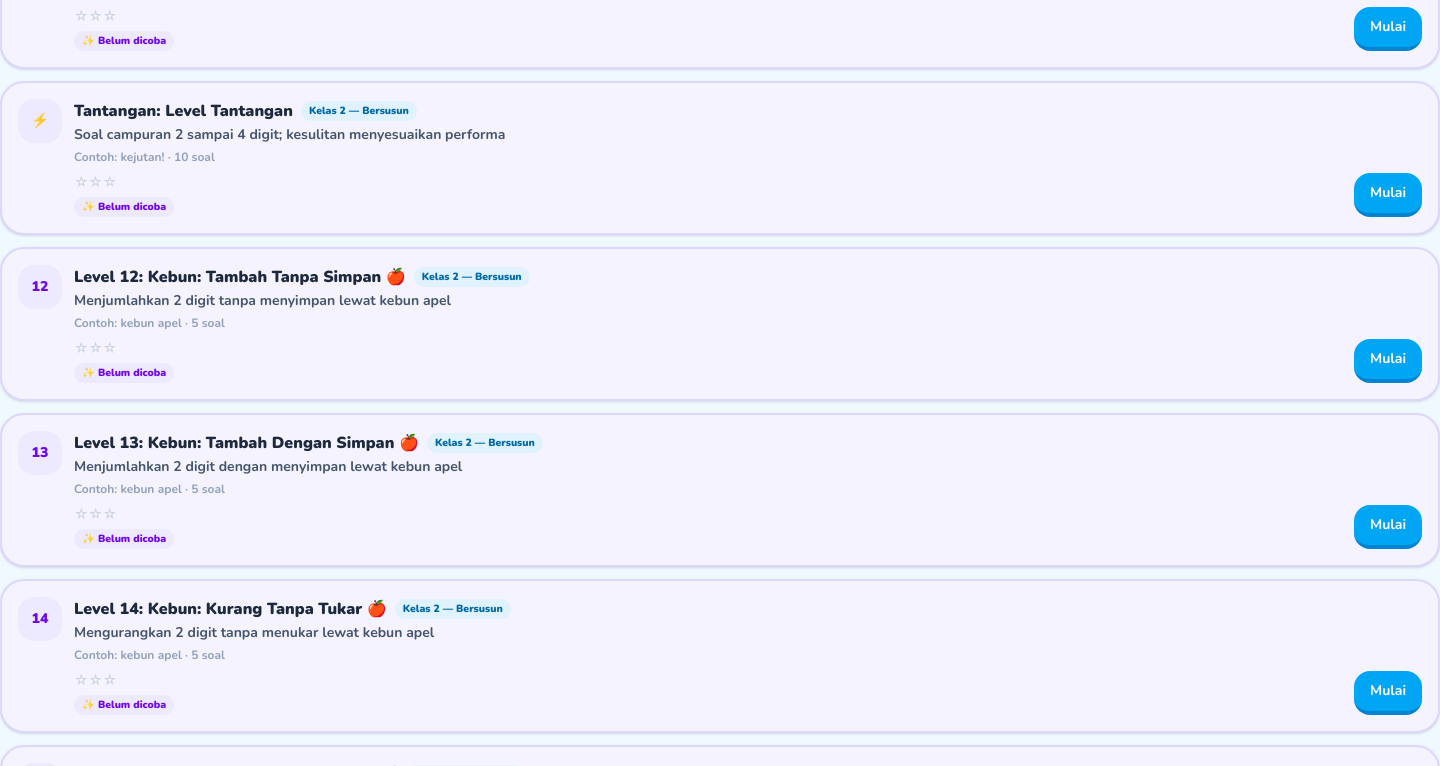
Test: LevelSelectScreen › menavigasi ke screen yang tepat untuk kebun dan akuarium
The width and height of the screenshot is (1440, 766).
Later steps or results of the test are not shown.
(page scrolled)
Click the 3rd button "Mulai".
click(1388, 361)  # box [1354, 339, 1422, 383]
(page scrolled)
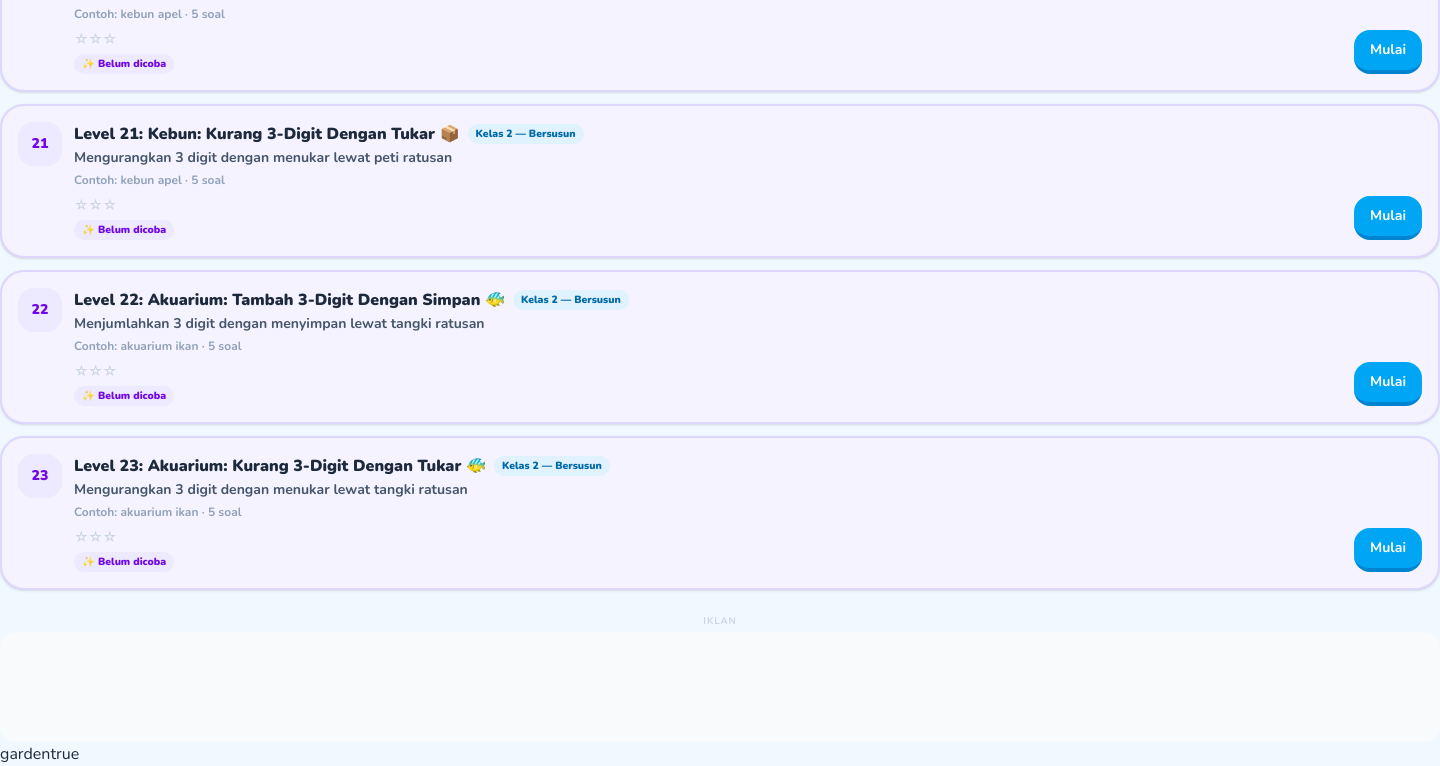
Expected: the text with test id "probe-screen" reads "garden", [0, 743, 50, 765]
